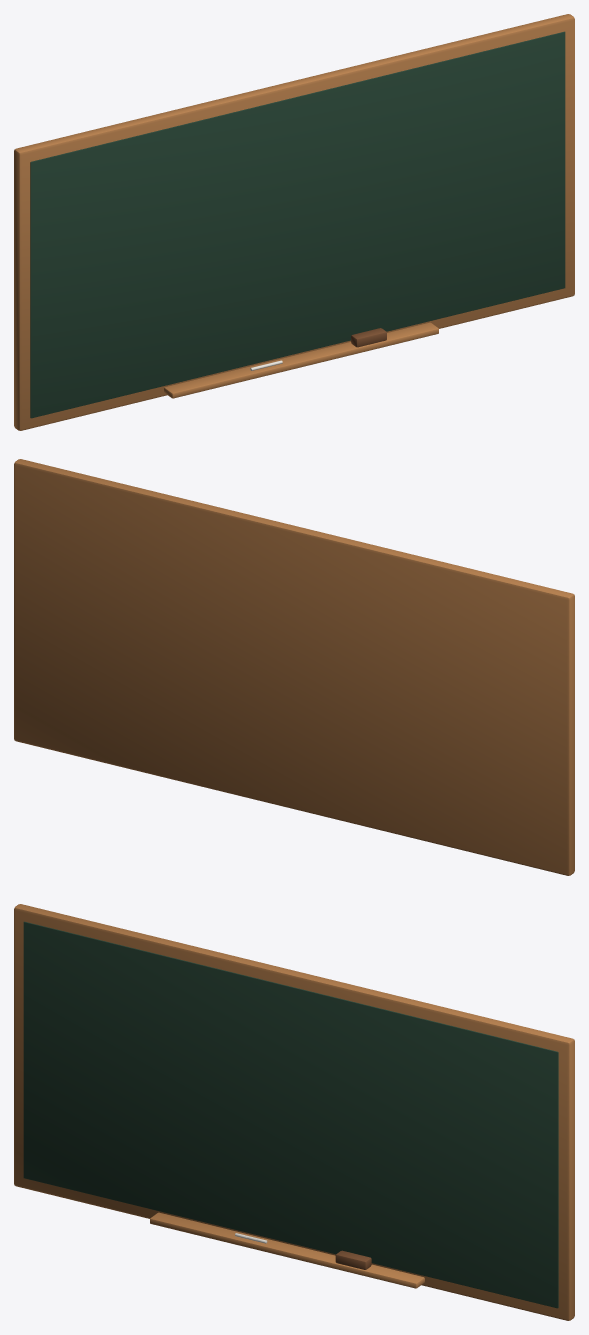
The model's file is lousa.glb.
The picture shows the model from 3 angles, top to bottom: view 1: azimuth 30°, elevation 25°; view 2: azimuth 150°, elevation 25°; view 3: azimuth 330°, elevation 25°; orthographic projection.
Parts seen in each view (by area): view 1: lousa_face, Cube, Cube.001; view 2: Cube; view 3: lousa_face, Cube, Cube.001.
Boxes of the visible parts, bbox=[...] form: lousa_face: bbox=[30, 31, 565, 418]; Cube: bbox=[14, 14, 574, 430]; Cube.001: bbox=[164, 322, 438, 398]; Cube: bbox=[14, 459, 574, 875]; lousa_face: bbox=[23, 921, 558, 1308]; Cube: bbox=[14, 904, 574, 1320]; Cube.001: bbox=[150, 1212, 424, 1288].
Bounding box in the file's own units: 2.5 × 1.2 × 0.115.
